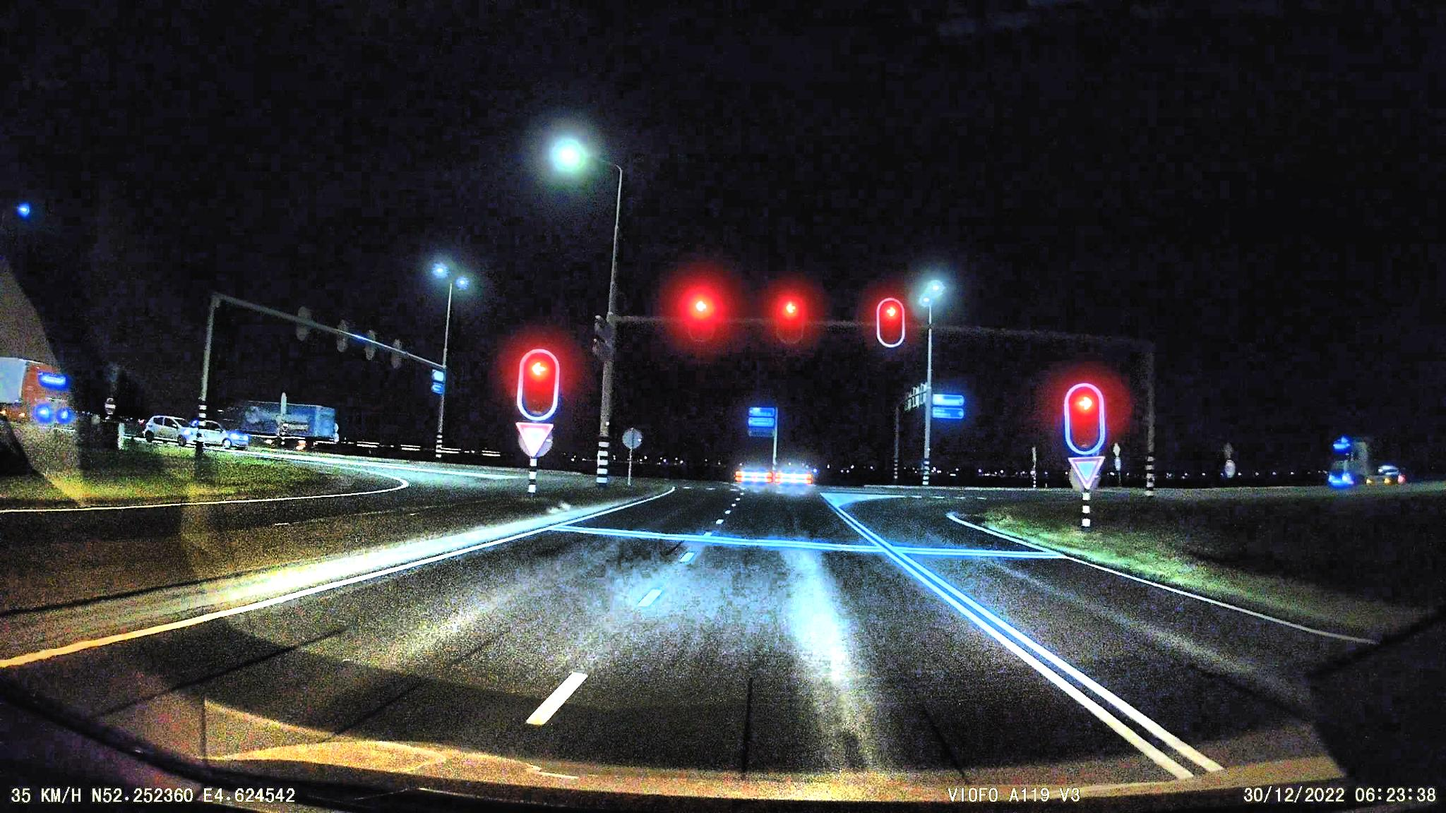Roads: (0, 484, 1446, 813)
